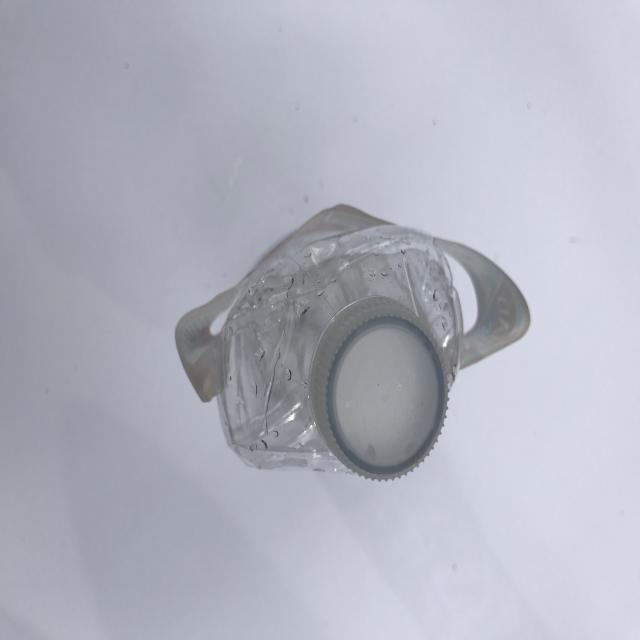plastic: (164, 196, 554, 476)
